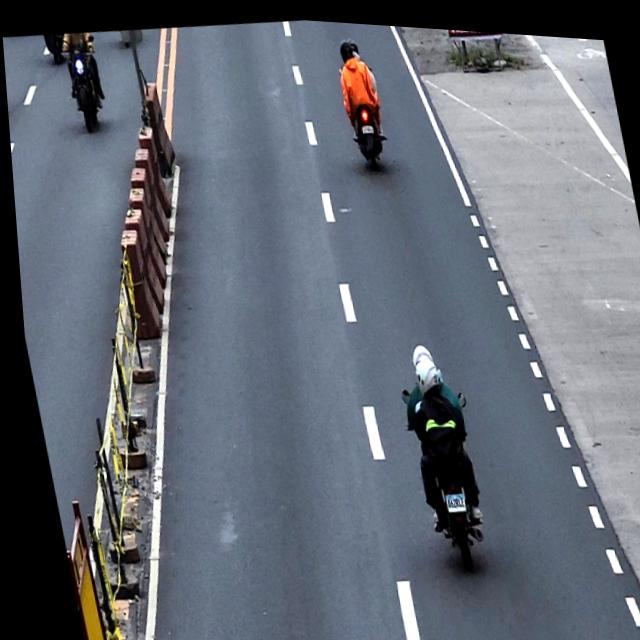License-Plate: (435, 481, 460, 509), (358, 117, 373, 130)
Motorcycle: (392, 375, 491, 572), (336, 56, 391, 167), (58, 32, 110, 134)
